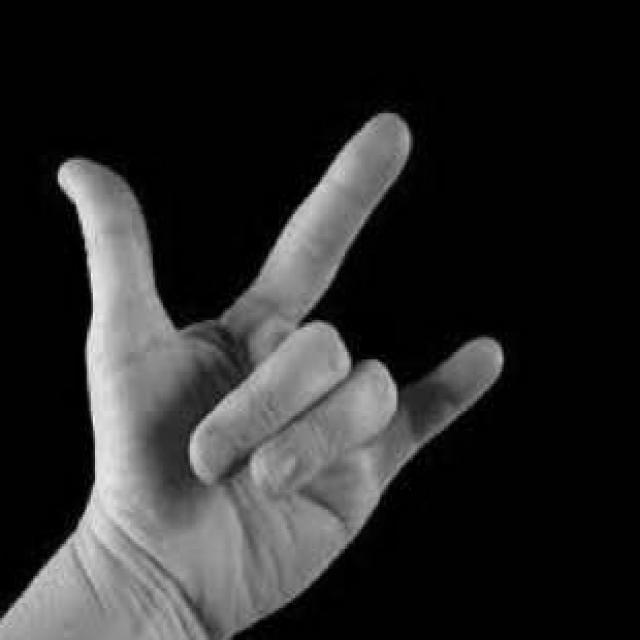i love you: (49, 101, 510, 640)
